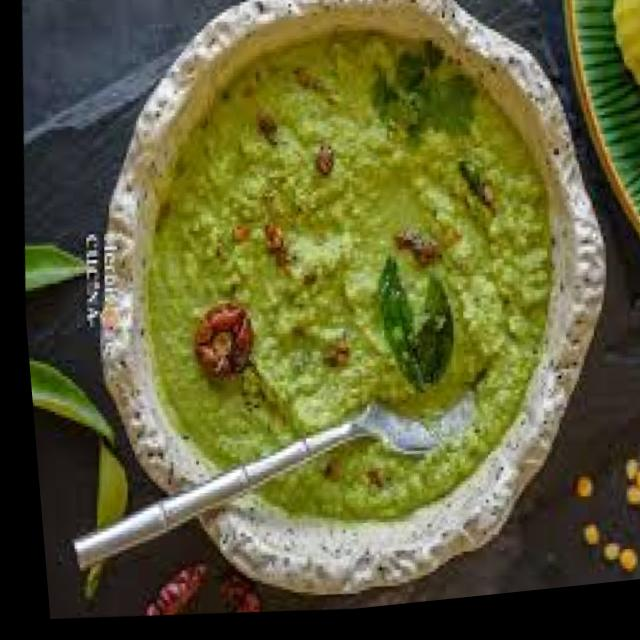GREEN CHUTNEY: (97, 12, 583, 458)
